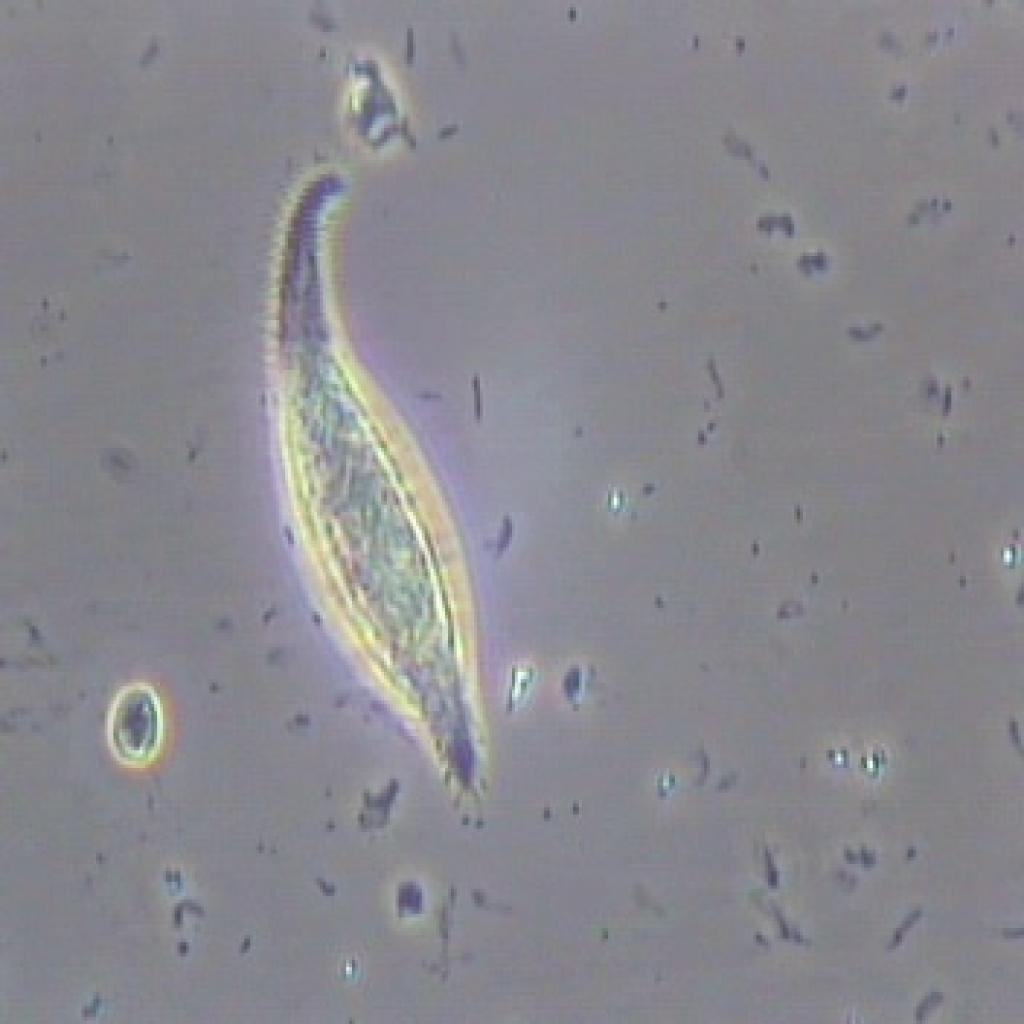Pristina: (242, 151, 526, 841)
